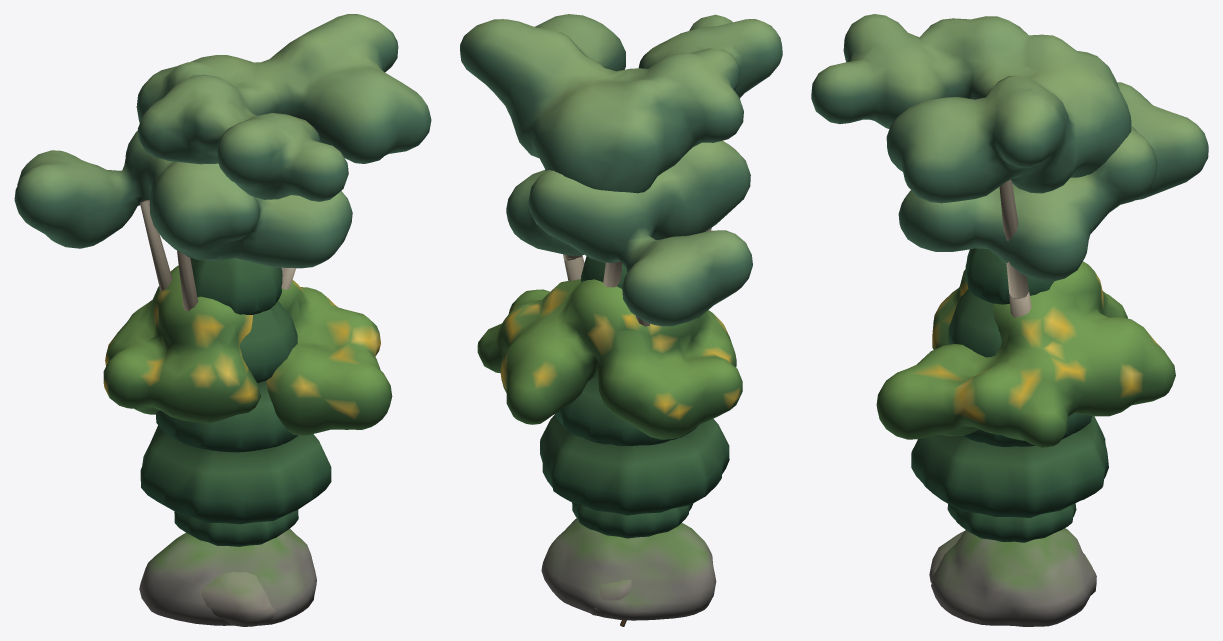
Rendered from flora.glb.
3 views of the same model, side by side, from view 1: azimuth 30°, elevation 25°; view 2: azimuth 150°, elevation 25°; view 3: azimuth 270°, elevation 25° (orthographic). The views are drawn at different scales.
Parts seen in each view (by area): view 1: gum_a, wattle_a, gum_b, pine_a, boulder_a, boulder_b, pine_b; view 2: gum_a, wattle_a, gum_b, pine_a, boulder_a, pine_b, boulder_b; view 3: gum_a, wattle_a, gum_b, pine_a, boulder_a, pine_b.
Part boxes in pixels (x1,y1,x2,y2): gum_a: (136, 14, 431, 289); wattle_a: (103, 265, 392, 435); gum_b: (14, 130, 352, 310); pine_a: (140, 257, 331, 524); boulder_a: (139, 528, 316, 625); boulder_b: (201, 571, 275, 626); pine_b: (174, 510, 298, 546); gum_a: (460, 14, 782, 287); wattle_a: (477, 279, 742, 439); gum_b: (506, 140, 752, 326); pine_a: (540, 256, 729, 515); boulder_a: (541, 518, 716, 620); pine_b: (571, 502, 693, 538); boulder_b: (587, 579, 631, 616); gum_a: (811, 14, 1131, 317); wattle_a: (876, 261, 1175, 447); gum_b: (898, 82, 1208, 281); pine_a: (911, 248, 1108, 517); boulder_a: (931, 528, 1096, 626); pine_b: (947, 503, 1076, 542).
Bounding box in the file's own units: 7.06 × 11.35 × 7.12.
